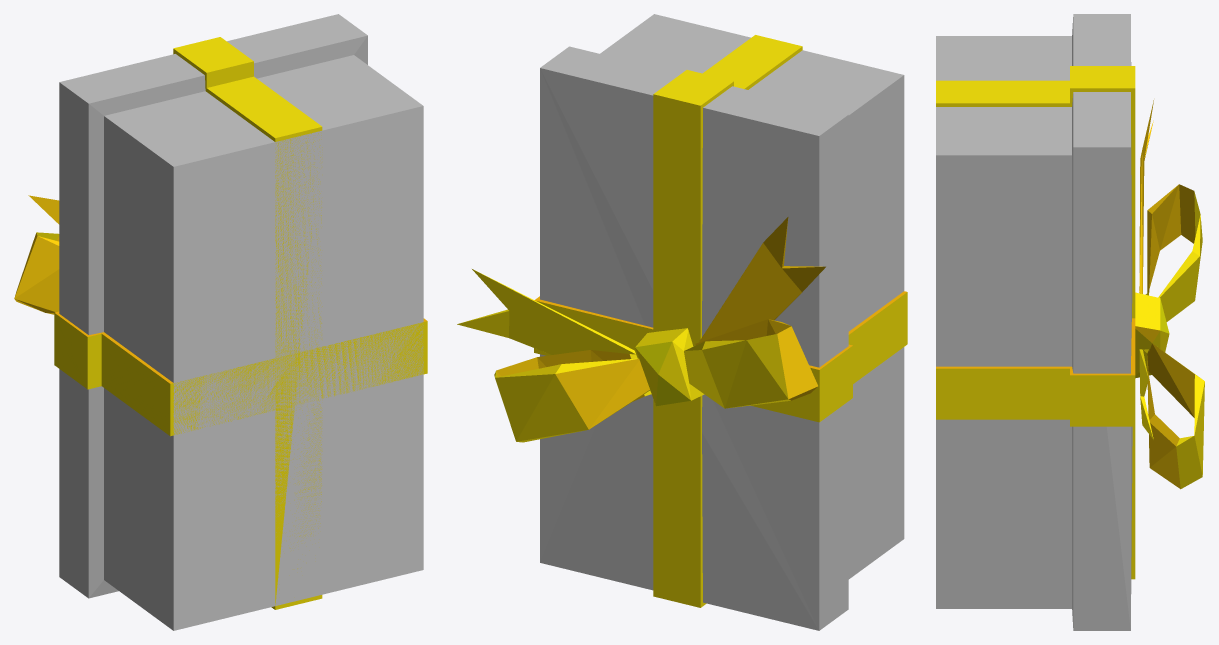
File: gift_box_1.fbx
3 views of the same model, side by side, from view 1: azimuth 30°, elevation 25°; view 2: azimuth 150°, elevation 25°; view 3: azimuth 270°, elevation 25° (orthographic). The views are drawn at different scales.
Parts seen in each view (by area): view 1: gift_box_1; view 2: gift_box_1; view 3: gift_box_1.
Part boxes in pixels (box(x1,y1,x2,y2)): gift_box_1: box(14, 14, 427, 630); gift_box_1: box(457, 14, 907, 630); gift_box_1: box(936, 14, 1204, 630).
Bounding box in the file's own units: 325 × 418 × 207.
